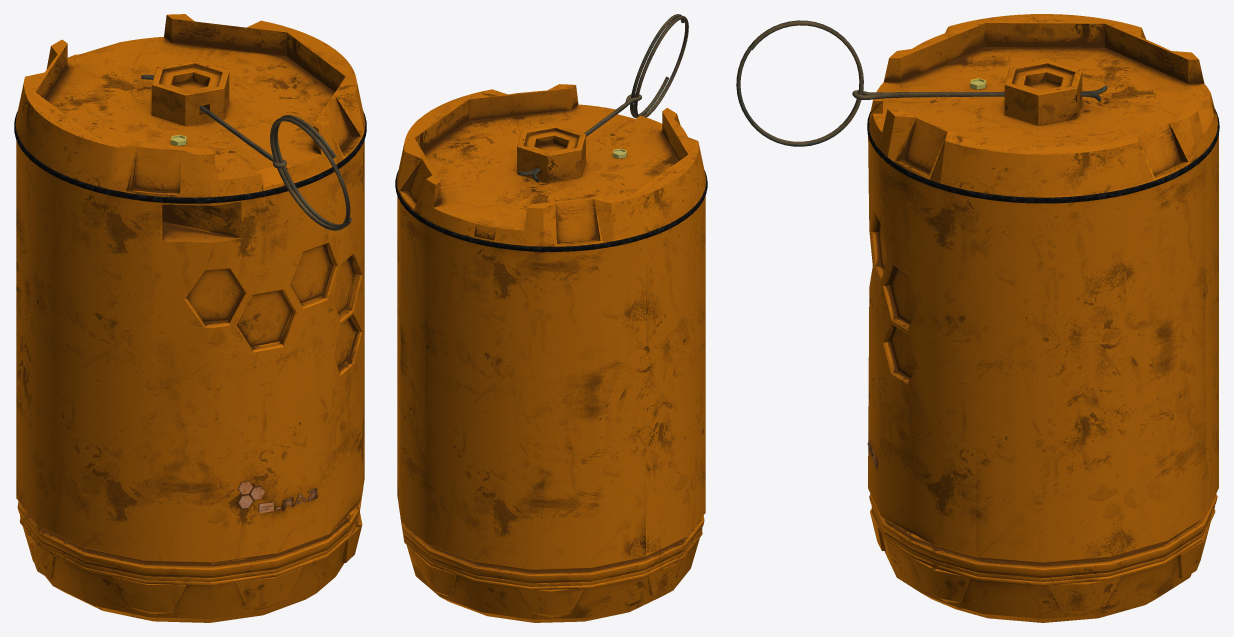
File: E-RAZ.fbx
3 views of the same model, side by side, from view 1: azimuth 30°, elevation 25°; view 2: azimuth 150°, elevation 25°; view 3: azimuth 270°, elevation 25° (orthographic). The views are drawn at different scales.
Visible parts, largest first — view 1: E-RAZ, guarantor; view 2: E-RAZ, guarantor; view 3: E-RAZ, guarantor.
Boxes of the visible parts, x1,y1,x2,y2 form: E-RAZ: (14, 14, 366, 622); guarantor: (141, 74, 351, 230); E-RAZ: (395, 84, 707, 622); guarantor: (518, 14, 688, 182); E-RAZ: (867, 14, 1219, 622); guarantor: (736, 20, 1107, 146).
Bounding box in the file's own units: 7.68 × 12.85 × 10.53.
